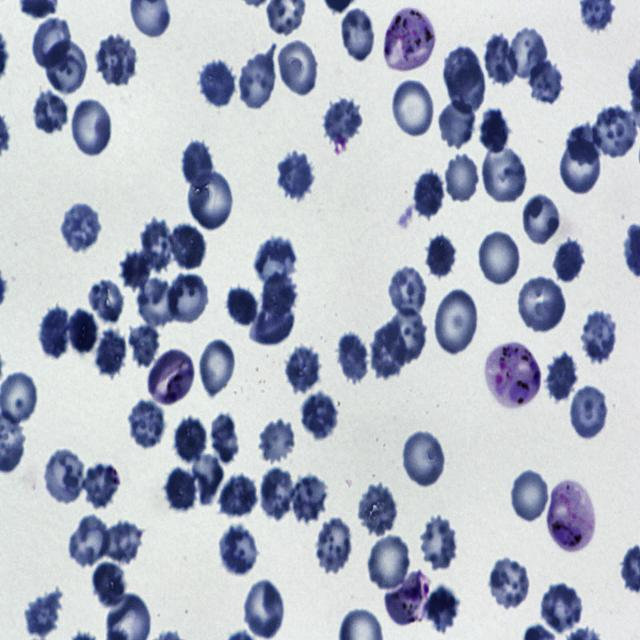red blood cell: (434, 288, 479, 357), (481, 142, 529, 206), (517, 274, 568, 334), (187, 167, 235, 230), (443, 46, 487, 113), (390, 78, 437, 140), (69, 96, 115, 158), (402, 428, 447, 490), (368, 532, 413, 593), (380, 308, 428, 365), (276, 37, 320, 98), (45, 36, 88, 97), (244, 578, 286, 640), (478, 227, 522, 286), (506, 23, 550, 82), (165, 270, 211, 326), (369, 319, 409, 383), (238, 50, 278, 112), (356, 481, 399, 538), (487, 557, 533, 610), (592, 106, 638, 159), (312, 516, 354, 574), (94, 31, 138, 86), (42, 449, 85, 504), (539, 582, 584, 634), (68, 515, 111, 569), (570, 383, 610, 441), (216, 526, 262, 576), (258, 466, 299, 522), (416, 517, 460, 569), (31, 16, 74, 69), (198, 338, 236, 397), (559, 139, 599, 195), (387, 264, 429, 317), (254, 236, 298, 286), (339, 5, 376, 64), (521, 192, 562, 245), (59, 202, 102, 252), (289, 474, 332, 524), (137, 277, 179, 328), (579, 310, 619, 363), (284, 343, 324, 396), (511, 469, 550, 523), (276, 148, 315, 201), (127, 399, 167, 450), (79, 461, 122, 508), (249, 303, 296, 345), (218, 472, 259, 520), (322, 96, 361, 146), (483, 33, 519, 87), (140, 216, 174, 273), (444, 152, 480, 205), (438, 96, 474, 149), (336, 330, 370, 386), (198, 59, 236, 109), (300, 391, 338, 440), (261, 271, 299, 320), (545, 352, 580, 405), (102, 521, 145, 564), (38, 306, 71, 362), (86, 279, 125, 326), (169, 223, 206, 271), (192, 452, 224, 507), (32, 90, 70, 136), (95, 329, 128, 381), (426, 584, 459, 635), (21, 594, 62, 635), (176, 144, 214, 188), (566, 123, 603, 168), (174, 413, 207, 463), (258, 421, 299, 461), (552, 238, 586, 286), (66, 307, 98, 358), (210, 413, 242, 464), (528, 60, 564, 105), (412, 170, 444, 220), (426, 233, 458, 280), (118, 249, 152, 293), (166, 467, 198, 513), (91, 564, 126, 606), (129, 323, 161, 367), (225, 286, 259, 327), (480, 108, 510, 153)
ring: (147, 348, 196, 407)
trophozoite: (484, 342, 541, 407), (547, 480, 596, 555), (384, 8, 435, 73), (383, 570, 432, 626)
